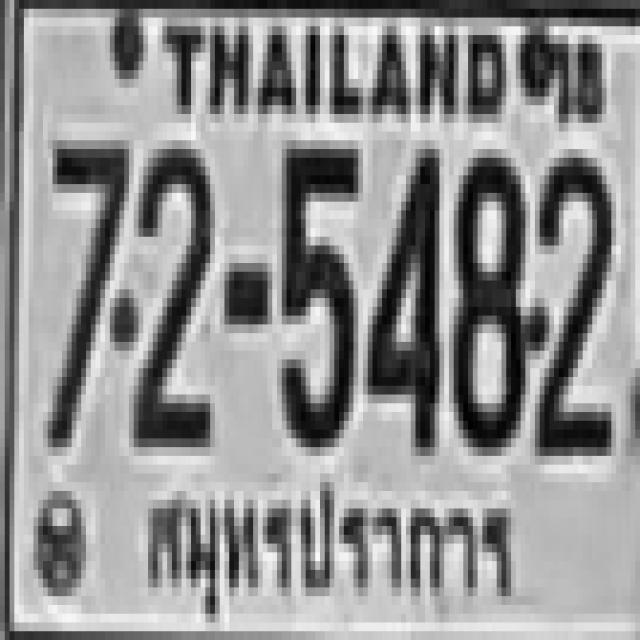2: (532, 144, 609, 452), (131, 136, 208, 434)
4: (363, 140, 435, 447)
5: (277, 140, 353, 438)
7: (43, 127, 124, 443)
8: (449, 149, 525, 447)
SPK: (136, 471, 521, 613)
